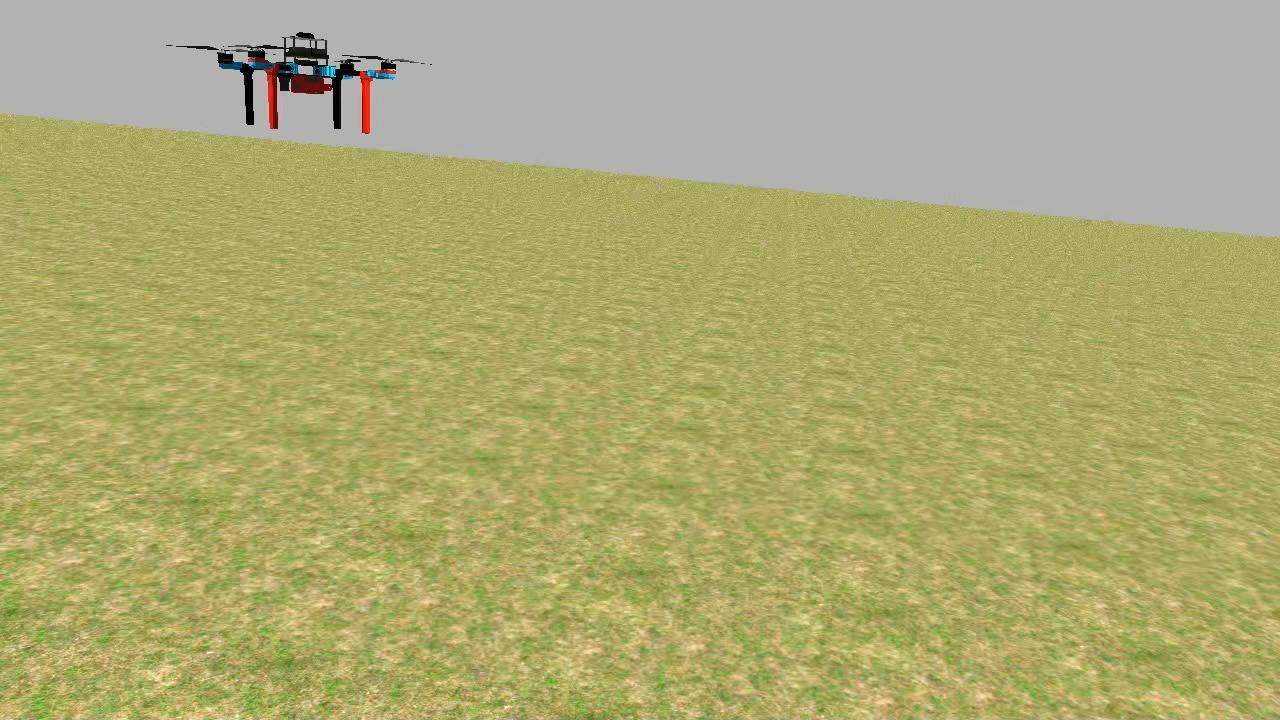UAV: (214, 24, 408, 140)
